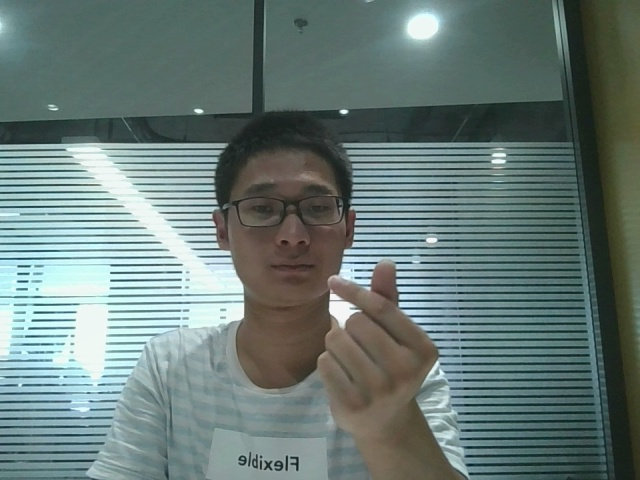hand: (313, 254, 467, 448)
